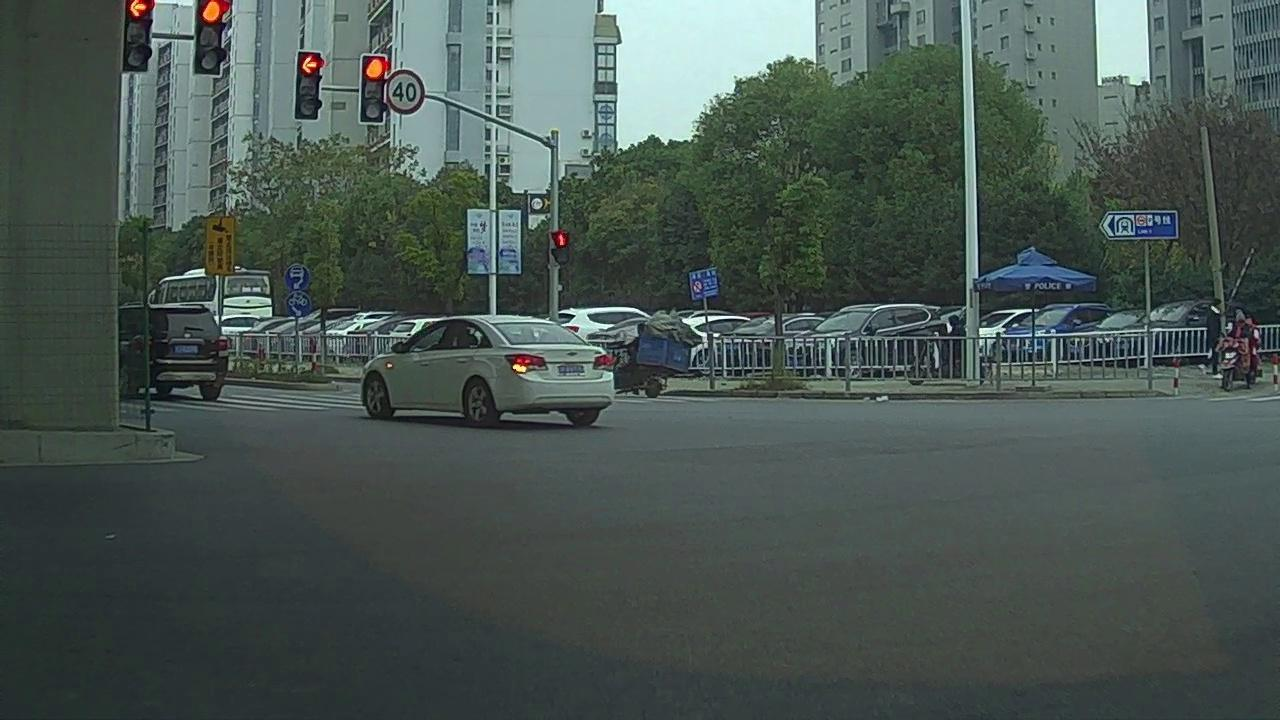traffic_light: (124, 2, 150, 75), (198, 3, 220, 72), (363, 57, 384, 125), (300, 53, 321, 118)
